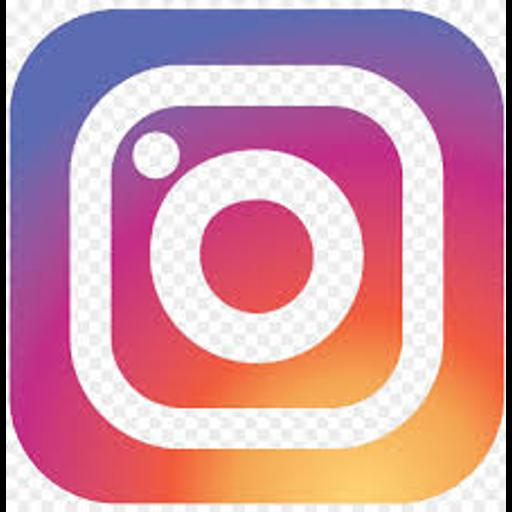Instagram: (6, 0, 506, 512)
